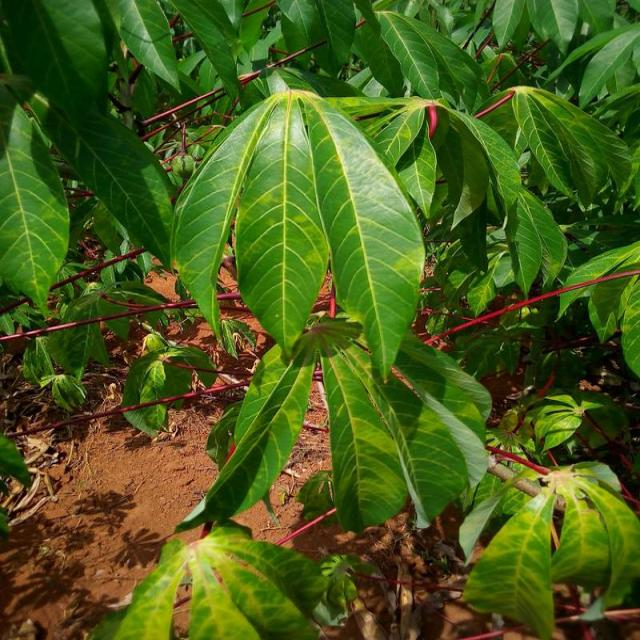cassava leaf: (170, 82, 428, 380), (2, 99, 71, 314)
